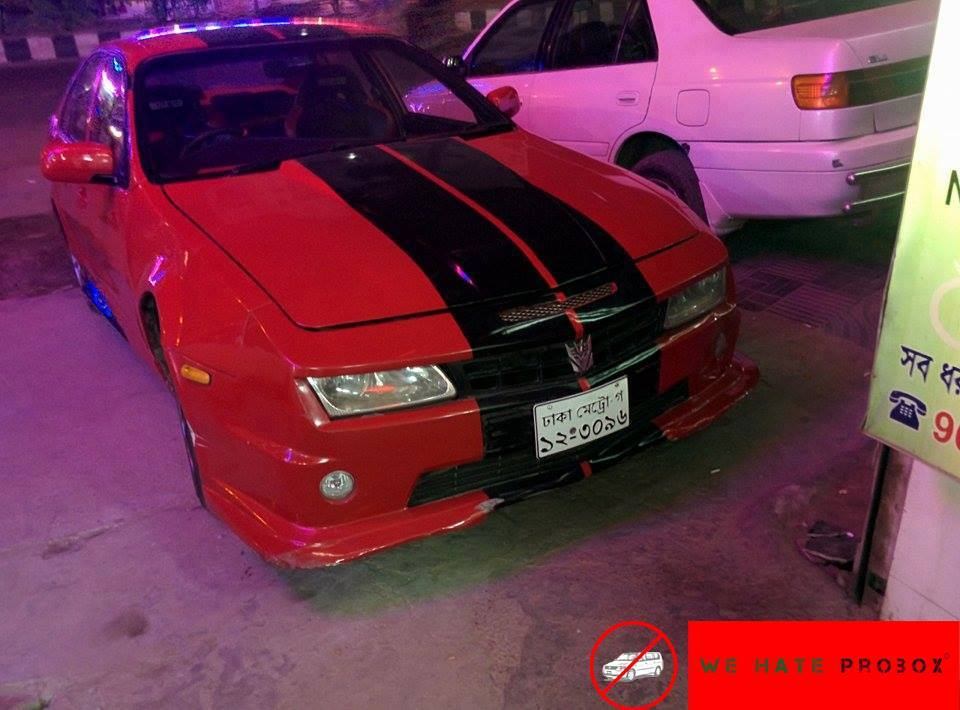registration_plate: (533, 374, 630, 460)
